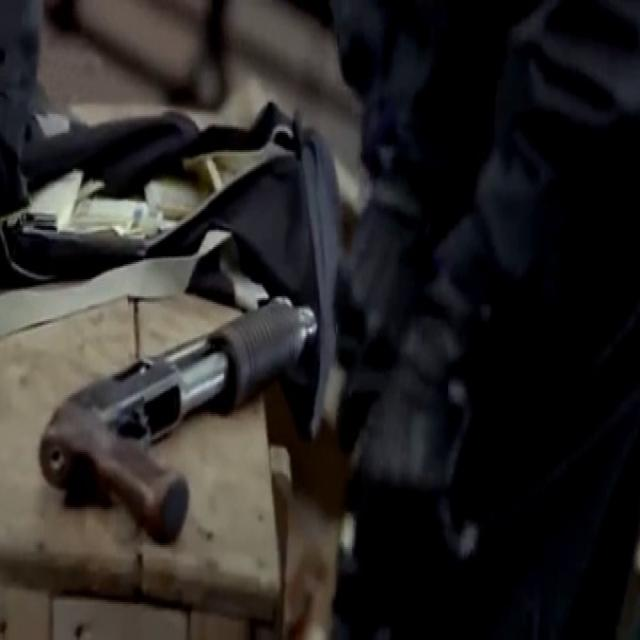rifle: (35, 278, 327, 555)
